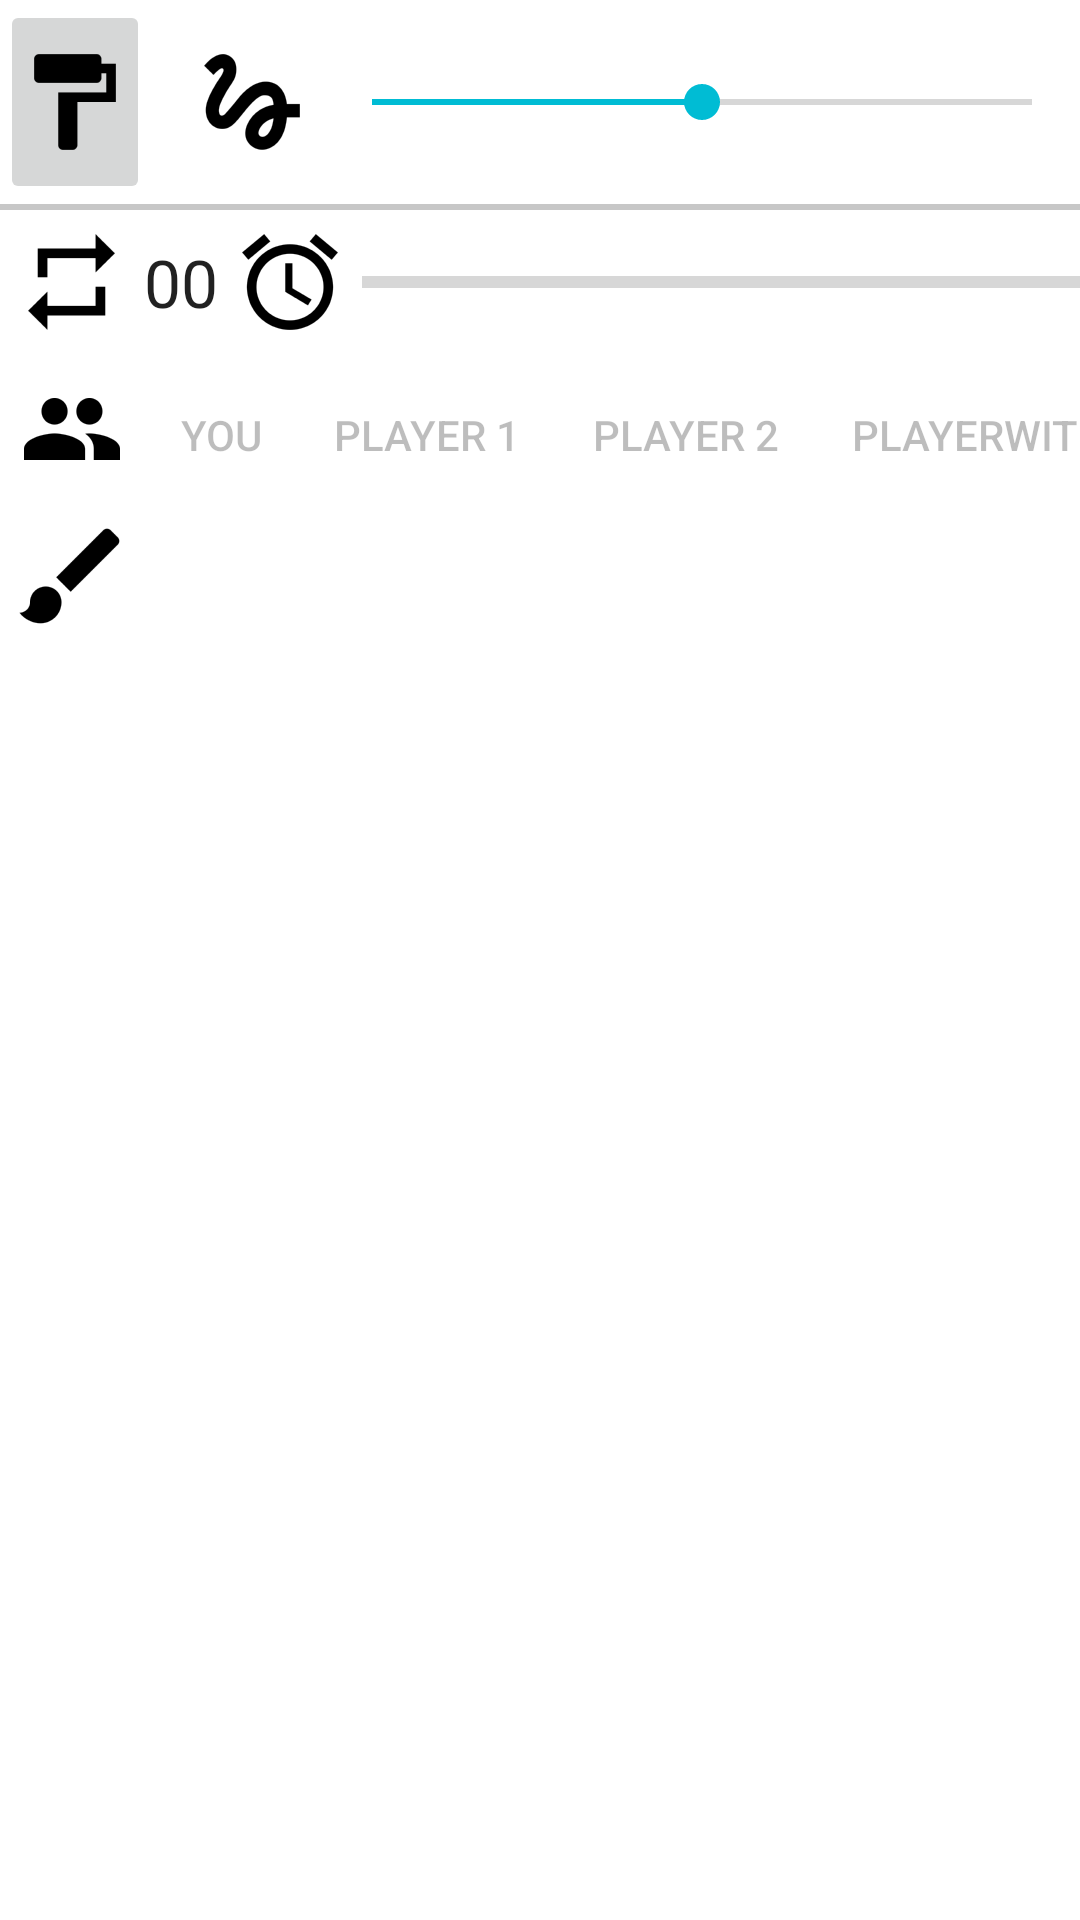

Named icons in this screenshot (1080px×1920px) and their centers, (x,y):
alarm: (290,282)
av repeat: (71,282)
content gesture: (252,102)
editor format paint: (75,102)
social people: (72,429)
